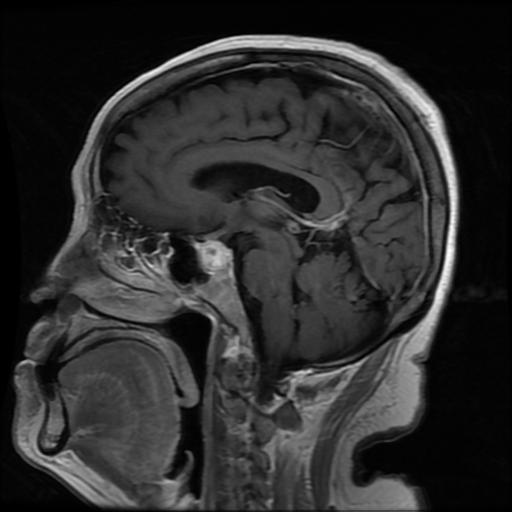Pituirity_tumour: (195, 241, 233, 272)
